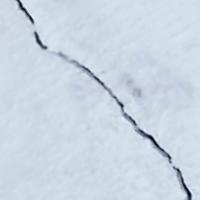crack: (10, 0, 193, 197)
